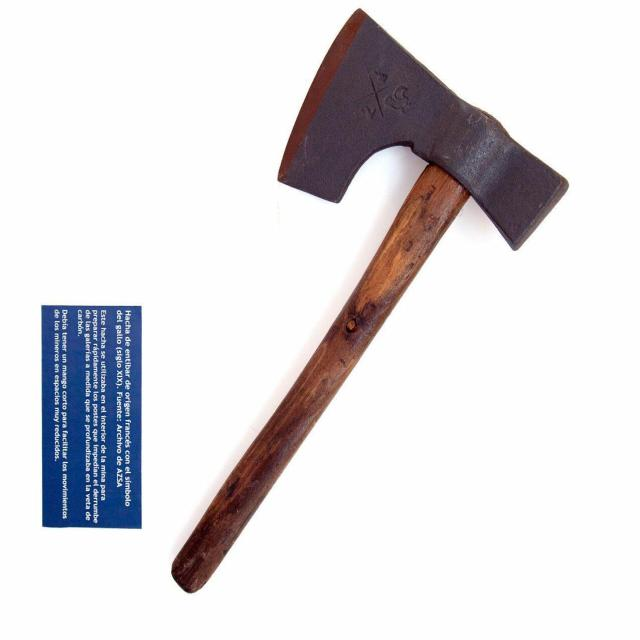Kapak: (270, 23, 526, 543)
